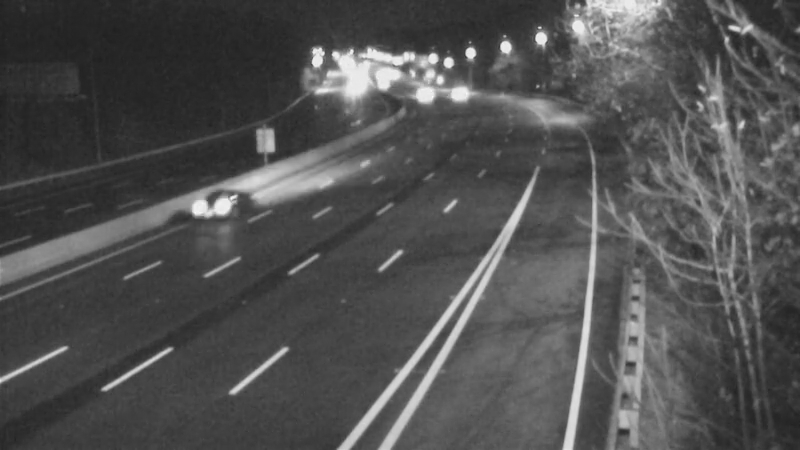vehicle: (174, 167, 254, 247), (360, 58, 410, 108), (434, 65, 484, 115), (397, 71, 447, 121)
